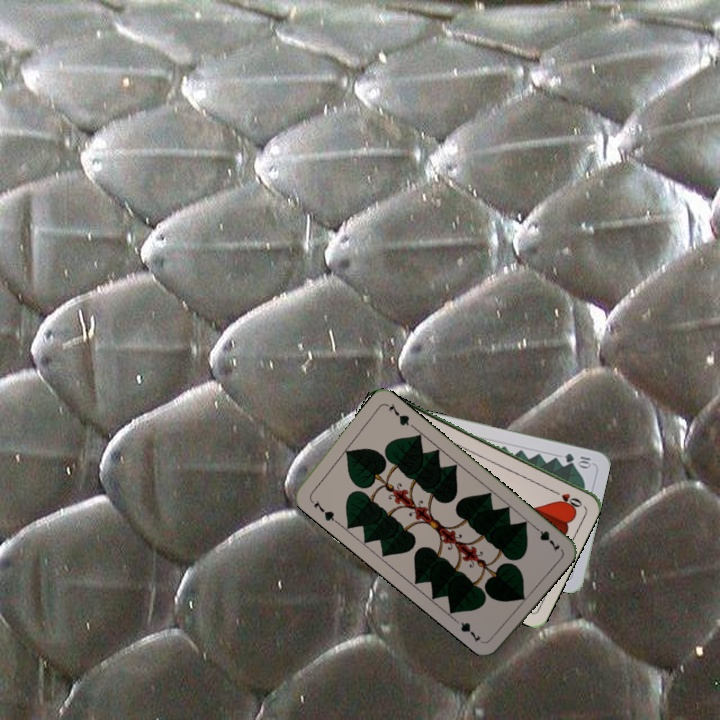G10: (560, 449, 593, 469)
G7: (529, 521, 563, 554), (306, 495, 340, 525)
HO: (547, 486, 585, 510)
